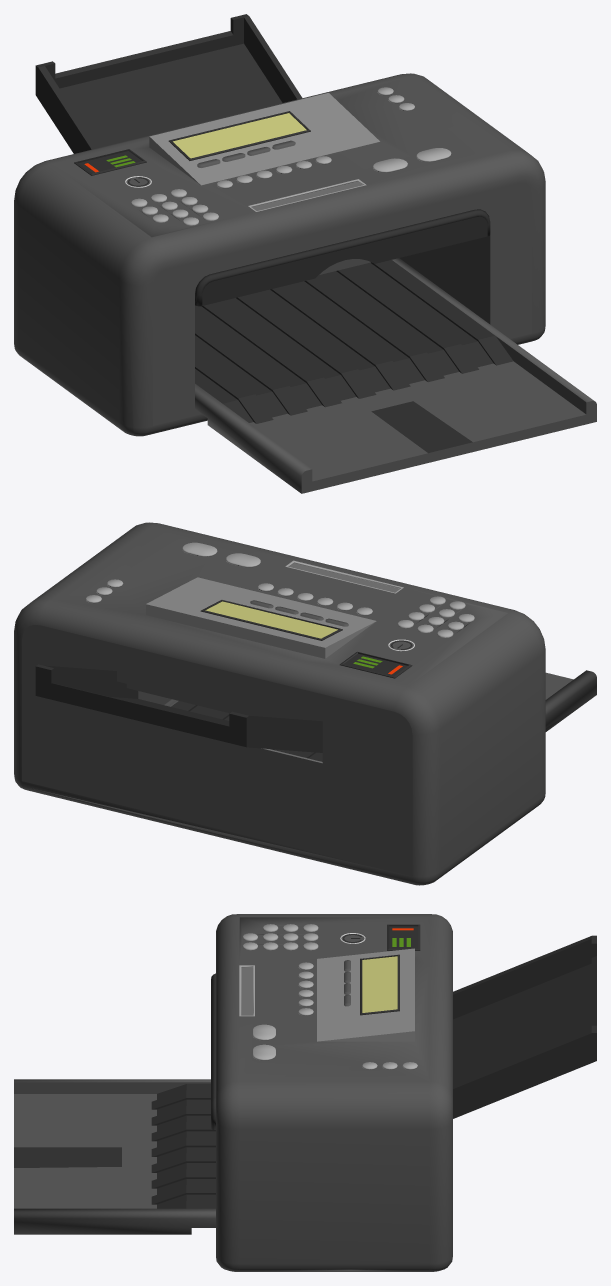
File: printer.glb
The picture shows the model from 3 angles, top to bottom: view 1: azimuth 30°, elevation 25°; view 2: azimuth 150°, elevation 25°; view 3: azimuth 270°, elevation 25°; orthographic projection. The views are drawn at different scales.
Visible parts, largest first — view 1: Processing_Unit_0, Print_Unit_17, Scan_Slot_16, Screen_15, Numeric_Buttons_4, Indicators_14; view 2: Processing_Unit_0, Scan_Slot_16, Print_Unit_17, Screen_15, Numeric_Buttons_4, Indicators_14; view 3: Processing_Unit_0, Print_Unit_17, Scan_Slot_16, Screen_15, Numeric_Buttons_4, Indicators_14.
Part boxes in pixels (x1,y1,x2,y2): Processing_Unit_0: (14,73,545,436); Print_Unit_17: (195,258,596,493); Scan_Slot_16: (35,14,302,153); Screen_15: (173,113,306,158); Numeric_Buttons_4: (131,189,218,225); Indicators_14: (74,149,146,175); Processing_Unit_0: (14,522,545,885); Scan_Slot_16: (35,664,322,752); Print_Unit_17: (164,670,596,761); Screen_15: (205,601,337,638); Numeric_Buttons_4: (397,596,474,637); Indicators_14: (339,651,412,678); Processing_Unit_0: (211,914,452,1271); Print_Unit_17: (14,1079,215,1234); Scan_Slot_16: (453,935,596,1118); Screen_15: (362,956,397,1012); Numeric_Buttons_4: (242,924,318,950); Indicators_14: (387,924,420,950).
Size of the model in its own units: 0.508 by 0.2389 by 0.6429.
